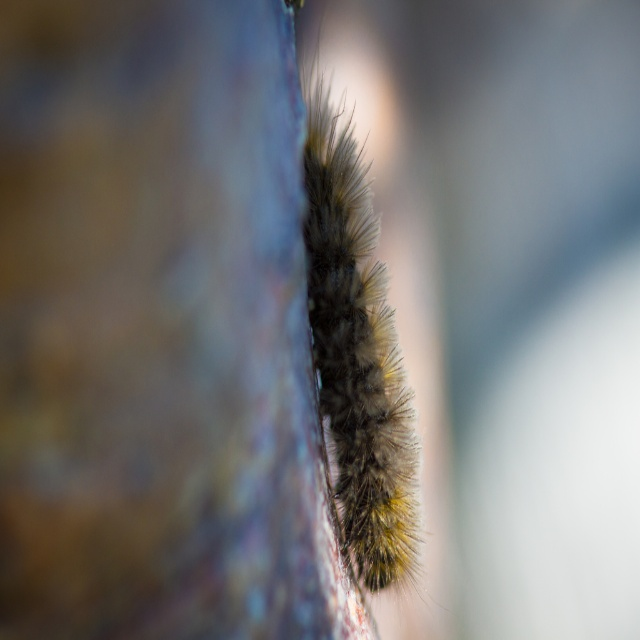Caterpillar: (304, 13, 424, 620)
